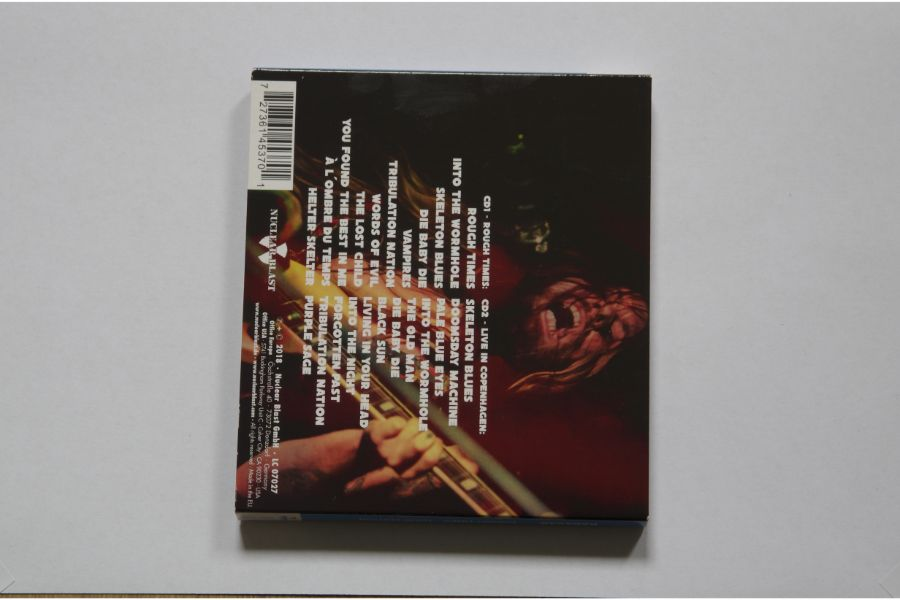album: (234, 68, 648, 529)
